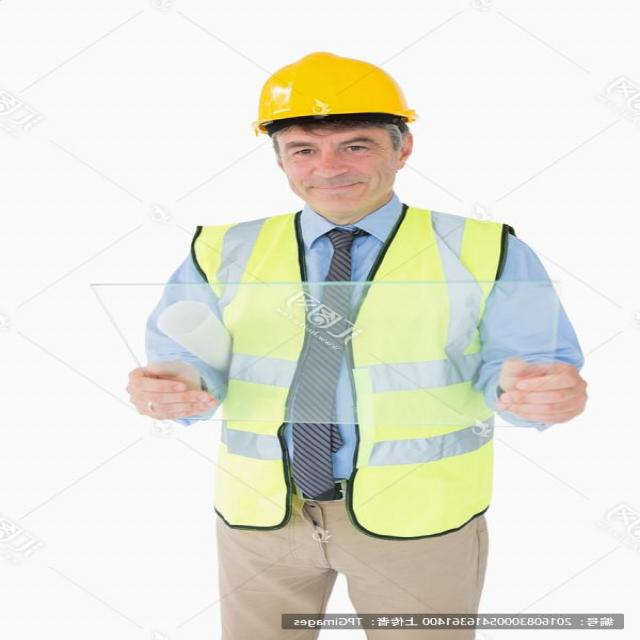Reflective-Jacket: (191, 209, 509, 535)
Safety-Helmet: (244, 49, 419, 131)
